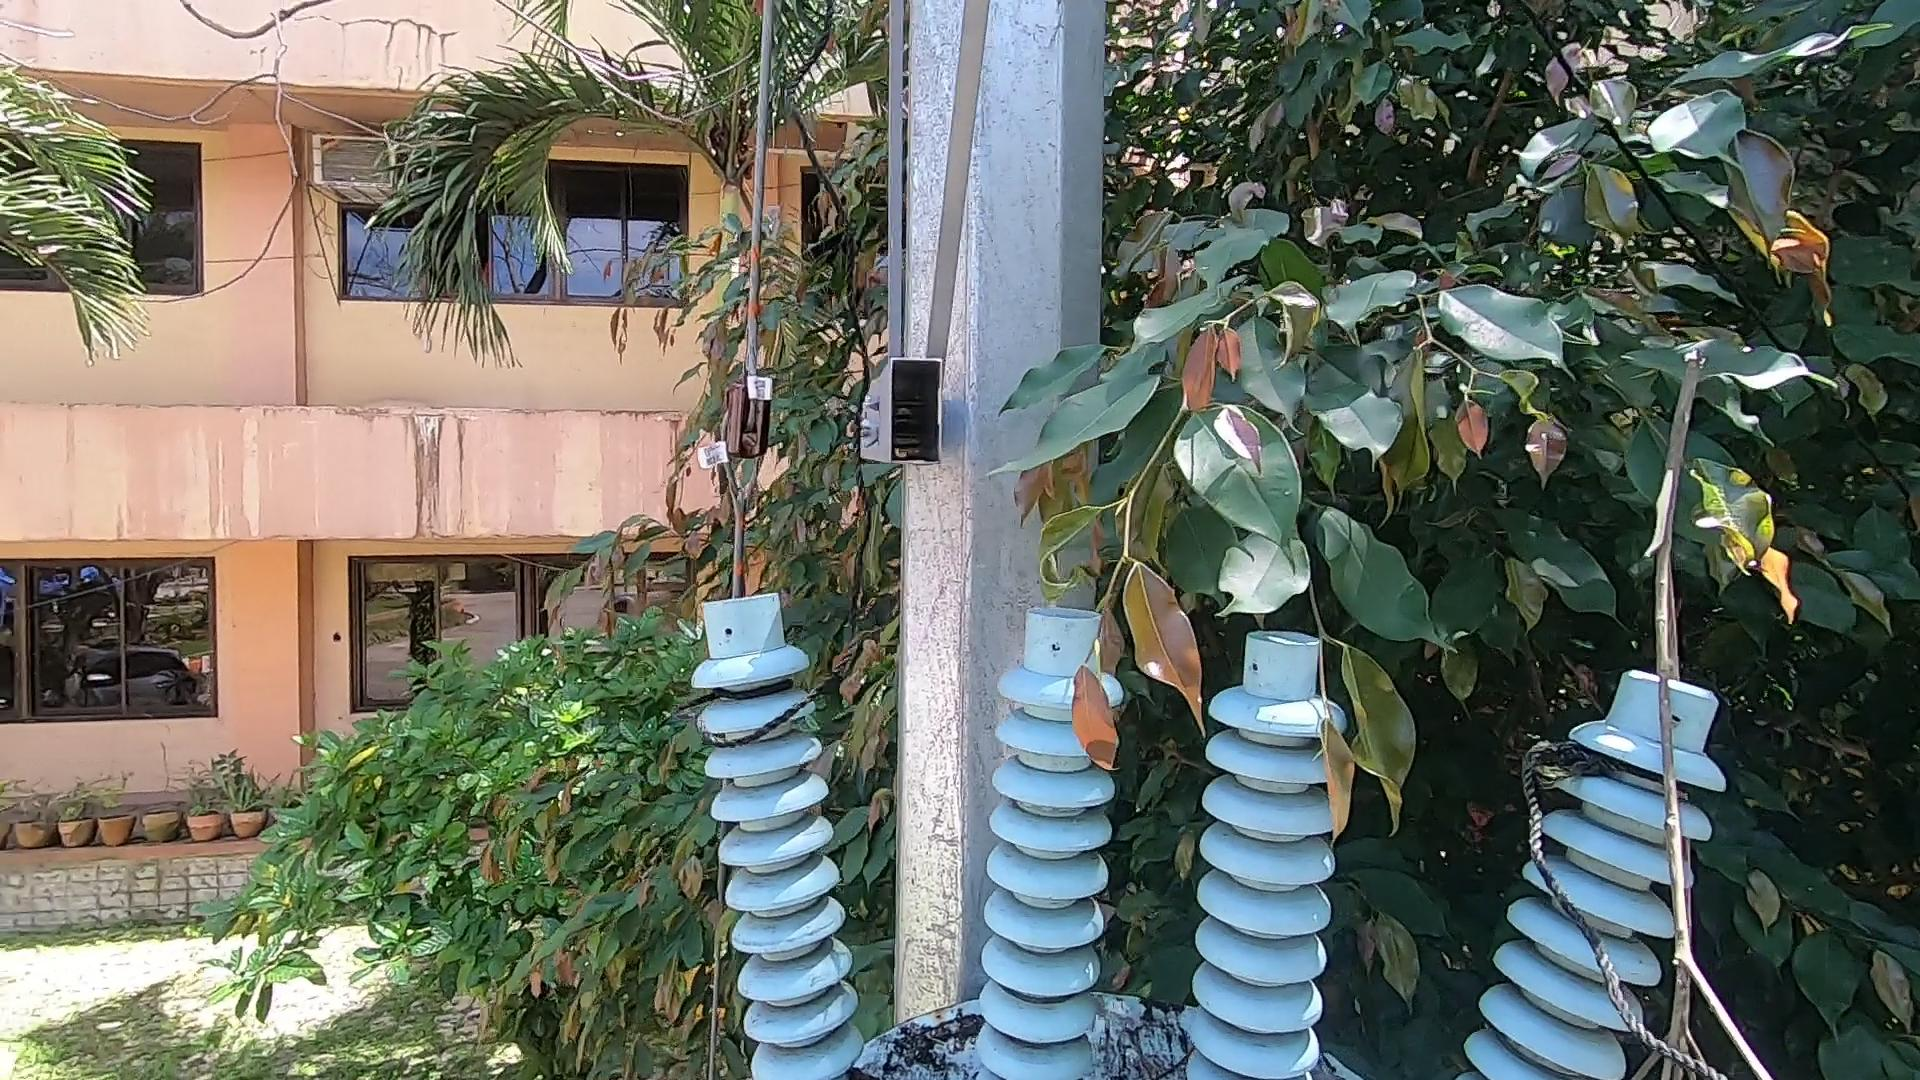tree branch: (1589, 351, 1778, 1077), (1131, 1051, 1189, 1069)
